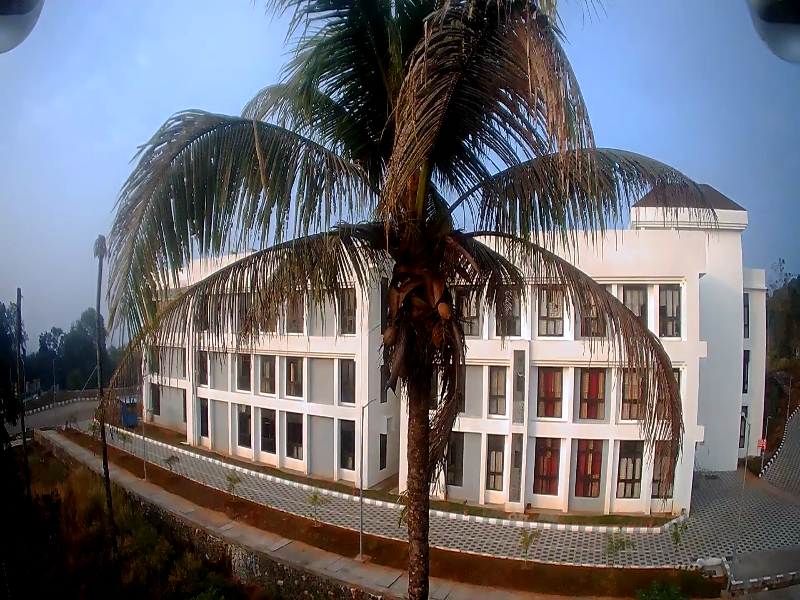coconut: (436, 300, 453, 318), (381, 326, 395, 347)
